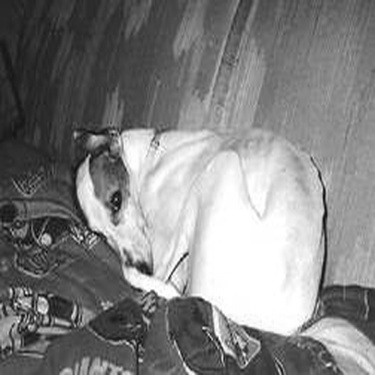dog: (63, 108, 331, 338)
